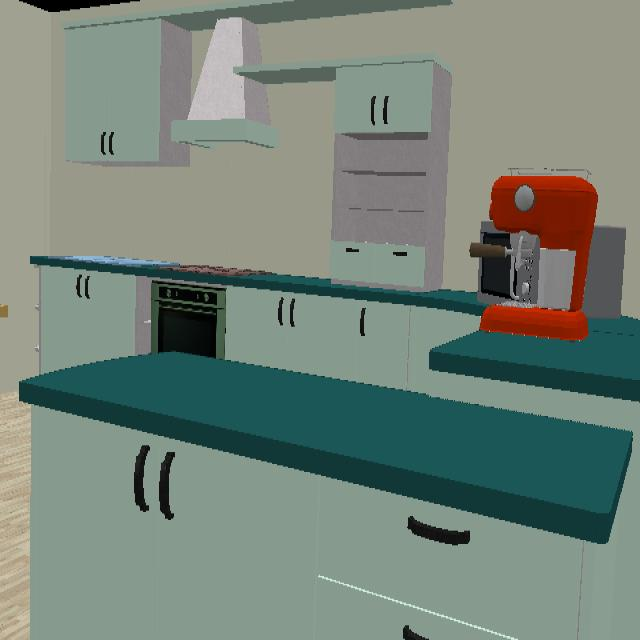cabinet: (30, 407, 616, 640), (62, 0, 455, 167), (430, 372, 640, 640), (233, 55, 453, 292), (225, 287, 481, 392), (41, 267, 151, 375)
countertop: (19, 352, 633, 545), (29, 256, 487, 316), (428, 317, 640, 403)
microwave: (582, 225, 626, 320), (482, 256, 511, 299), (516, 259, 538, 304), (481, 223, 511, 248)
oven: (150, 280, 226, 360)
stove: (156, 264, 268, 276)
table: (0, 303, 8, 323)
